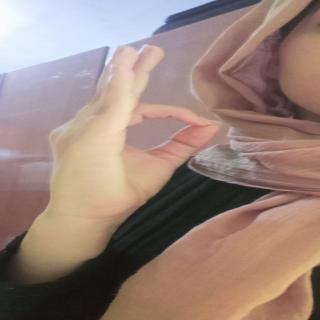Space: (39, 33, 222, 179)
